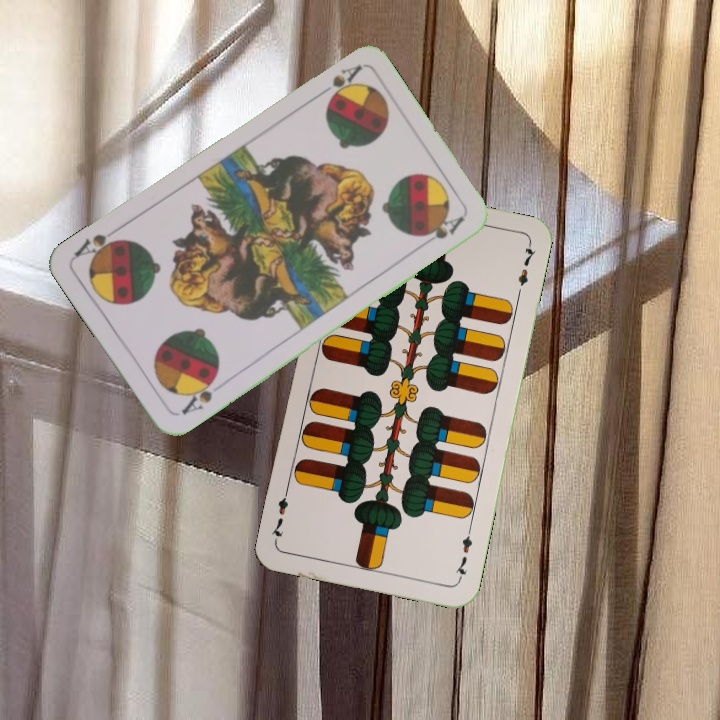E7: (451, 525, 475, 583)
SA: (311, 60, 364, 103), (177, 371, 220, 418)
